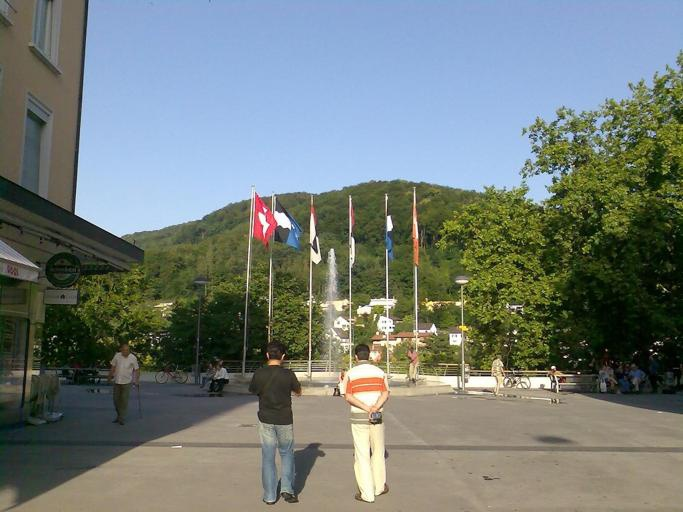non-vehicle: (154, 356, 190, 384), (502, 365, 532, 389)
